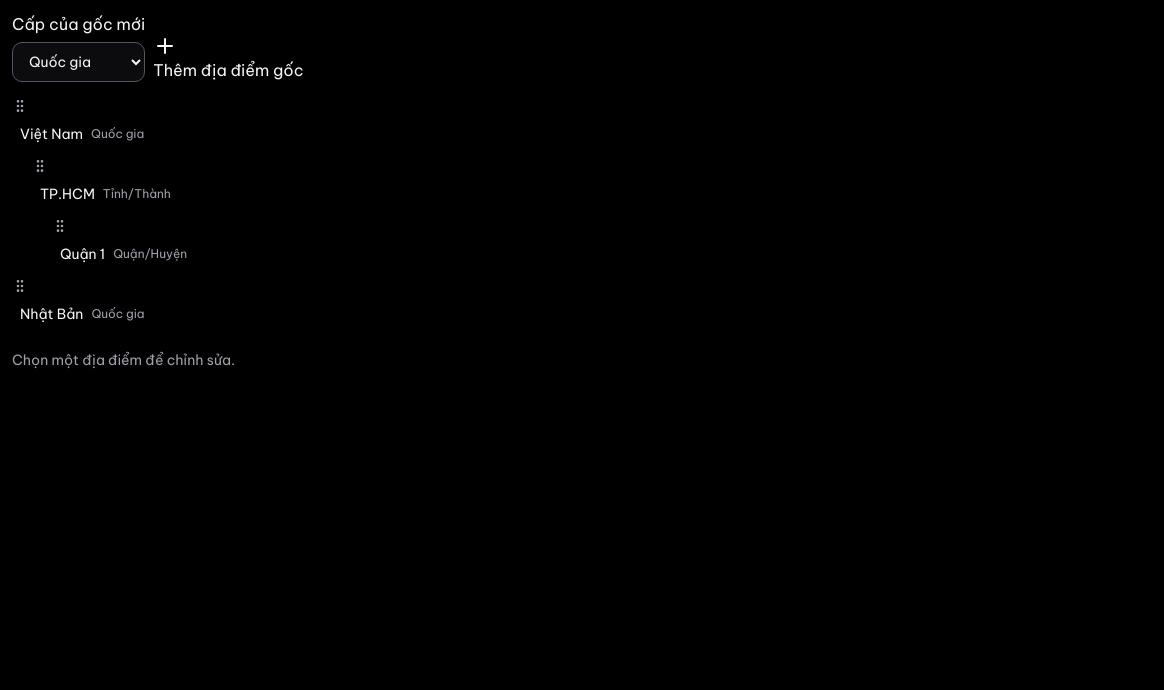
Test: location tree editor › adds a child under the selected node
The image size is (1164, 690).
Click the button "Việt Nam Quốc gia": {"x": 82, "y": 134} [12, 114, 152, 154]
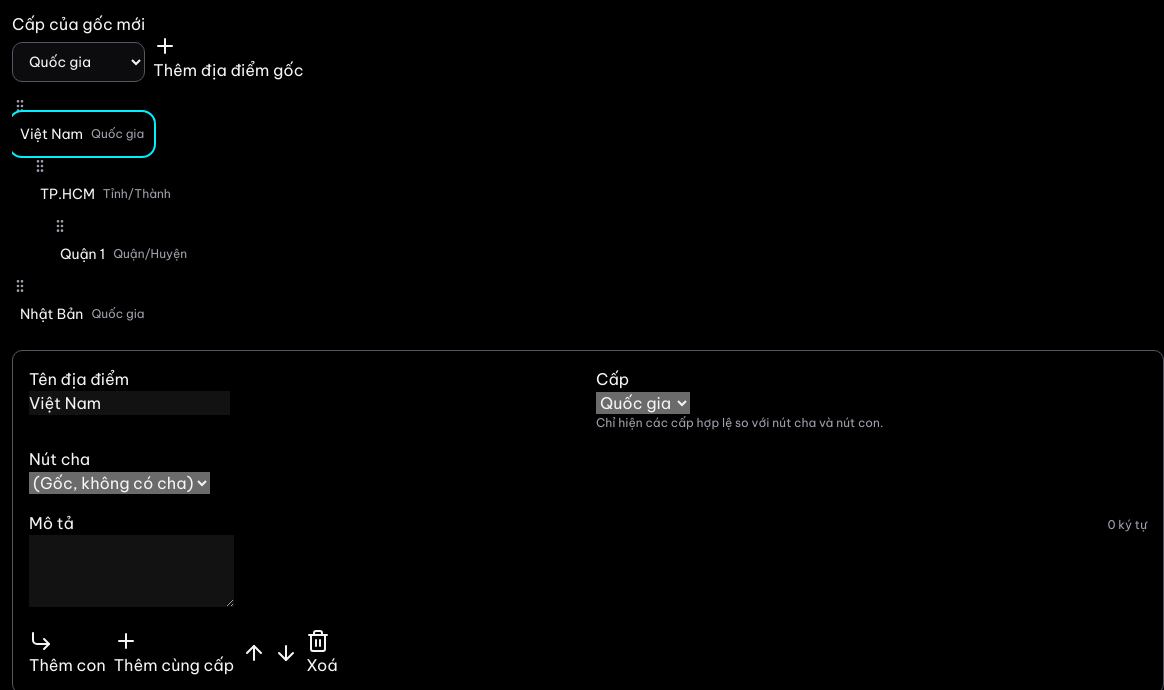
Click the button "Thêm con": {"x": 67, "y": 653} [29, 629, 106, 677]
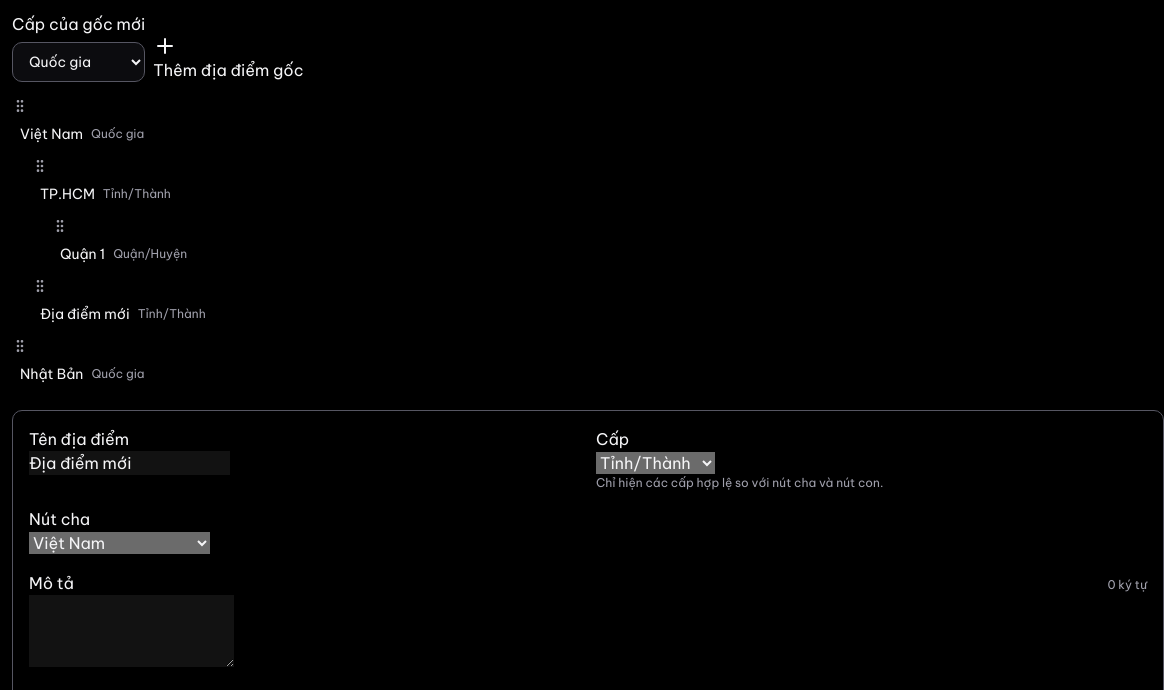
Result: the field labelled "Tên địa điểm" holds "Địa điểm mới" at [29, 451, 230, 475]
